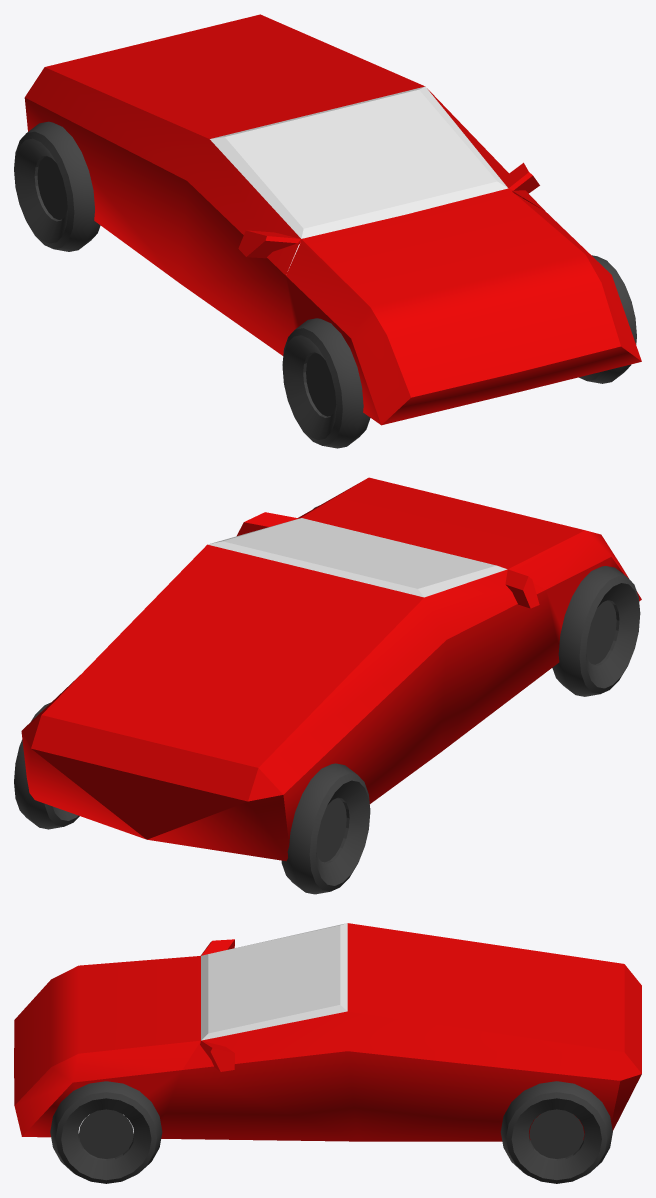
File: car_FixedNormals.fbx
The picture shows the model from 3 angles, top to bottom: view 1: azimuth 30°, elevation 25°; view 2: azimuth 150°, elevation 25°; view 3: azimuth 270°, elevation 25°; orthographic projection. The views are drawn at different scales.
Parts seen in each view (by area): view 1: car_geo1, pCylinder3, pCylinder3.001, pCylinder2; view 2: car_geo1, pCylinder3.001, pCylinder3, pCylinder2.001; view 3: car_geo1, pCylinder2, pCylinder2.001.
Part boxes in pixels (x1,y1,x2,y2): car_geo1: (24,14,641,425); pCylinder3: (282,318,370,448); pCylinder3.001: (14,121,100,251); pCylinder2: (579,255,636,383); car_geo1: (21,477,641,861); pCylinder3.001: (281,763,370,894); pCylinder3: (552,566,640,696); pCylinder2.001: (14,702,79,829); car_geo1: (14,923,641,1141); pCylinder2: (50,1081,162,1183); pCylinder2.001: (500,1081,612,1183).
Bounding box in the file's own units: 3.44 × 2.14 × 7.41.
